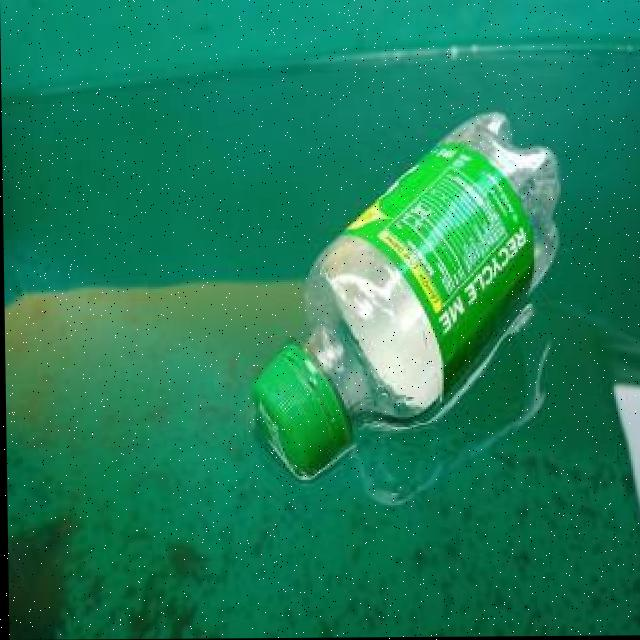bottle: (241, 107, 564, 483)
